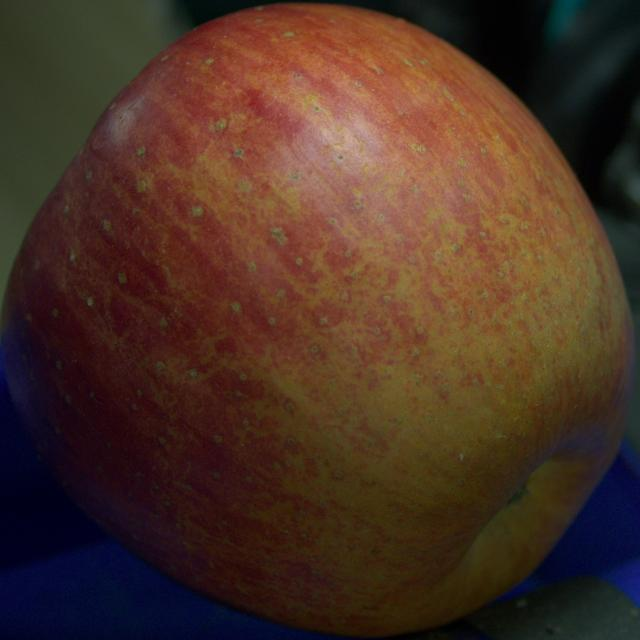apple: (0, 4, 634, 636)
